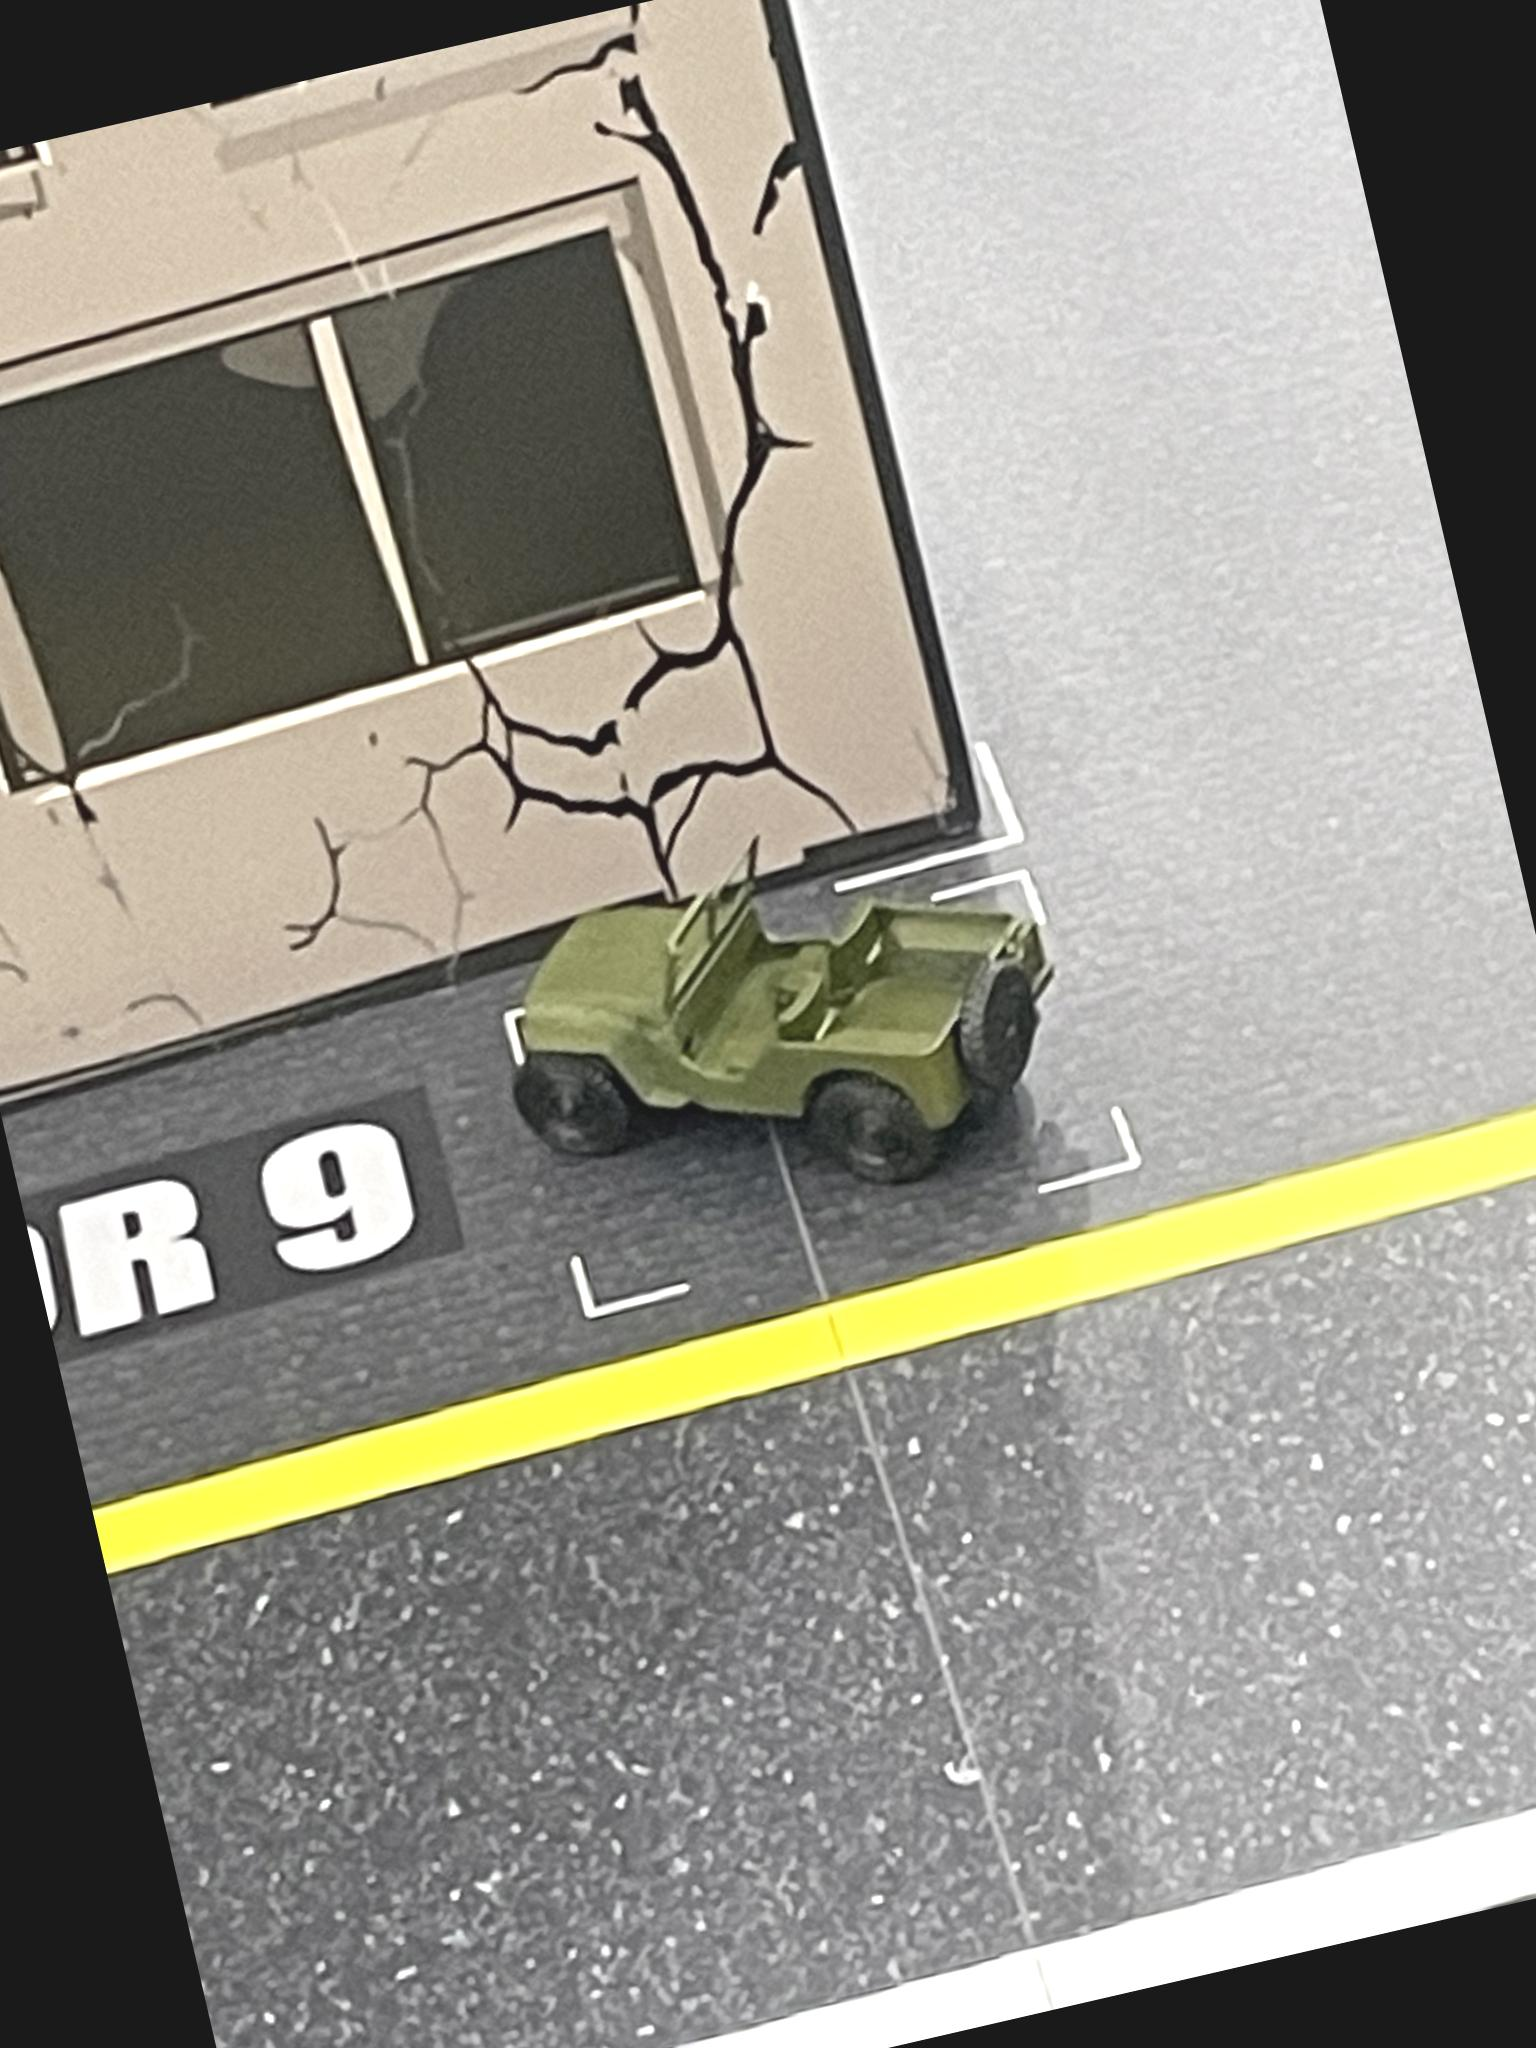Car: (473, 797, 1096, 1255)
